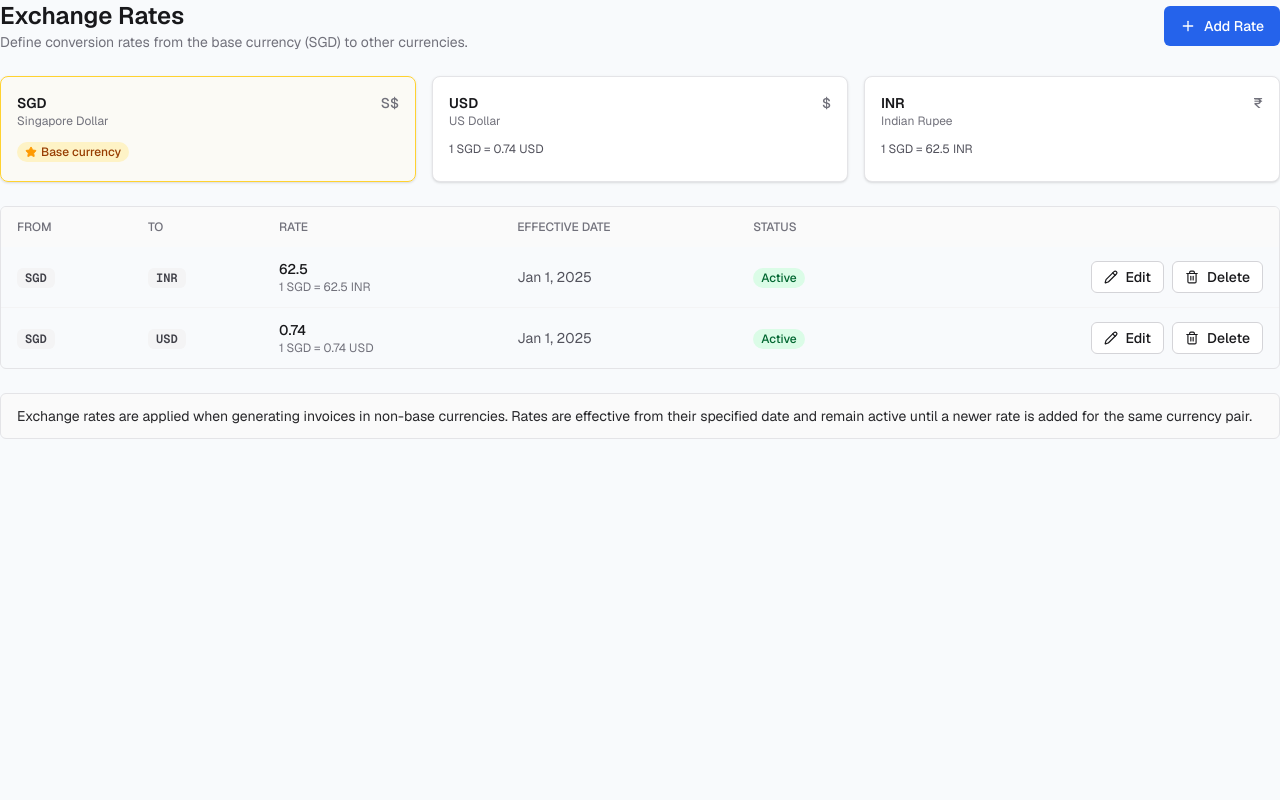
Test case: ExchangeRatesTable › closes the confirm dialog without deleting when cancelled
Check: the text "Base currency" is shown, box 17,142 -> 129,162
Click the 1st button "Delete" at (1217, 277), box 1172,261 -> 1263,293
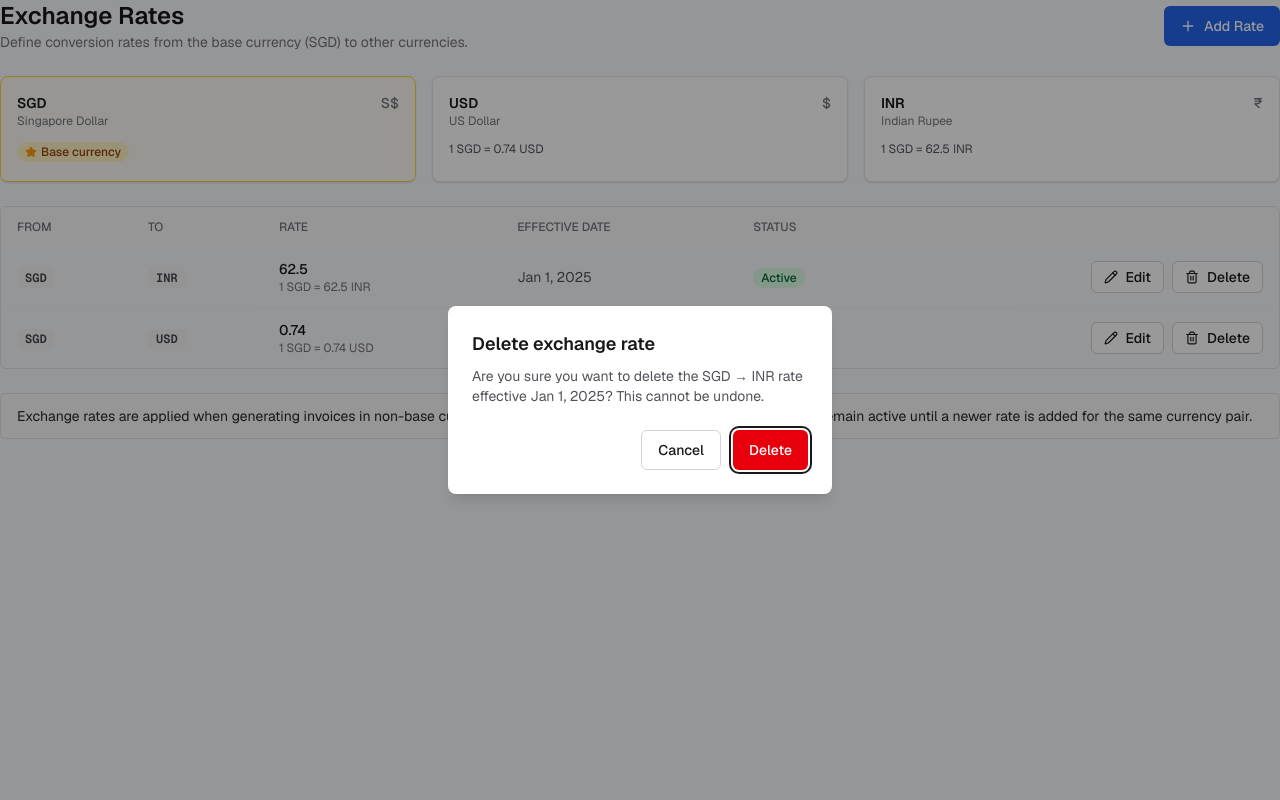
Click the button "Cancel" at (681, 450), box 641,430 -> 721,470
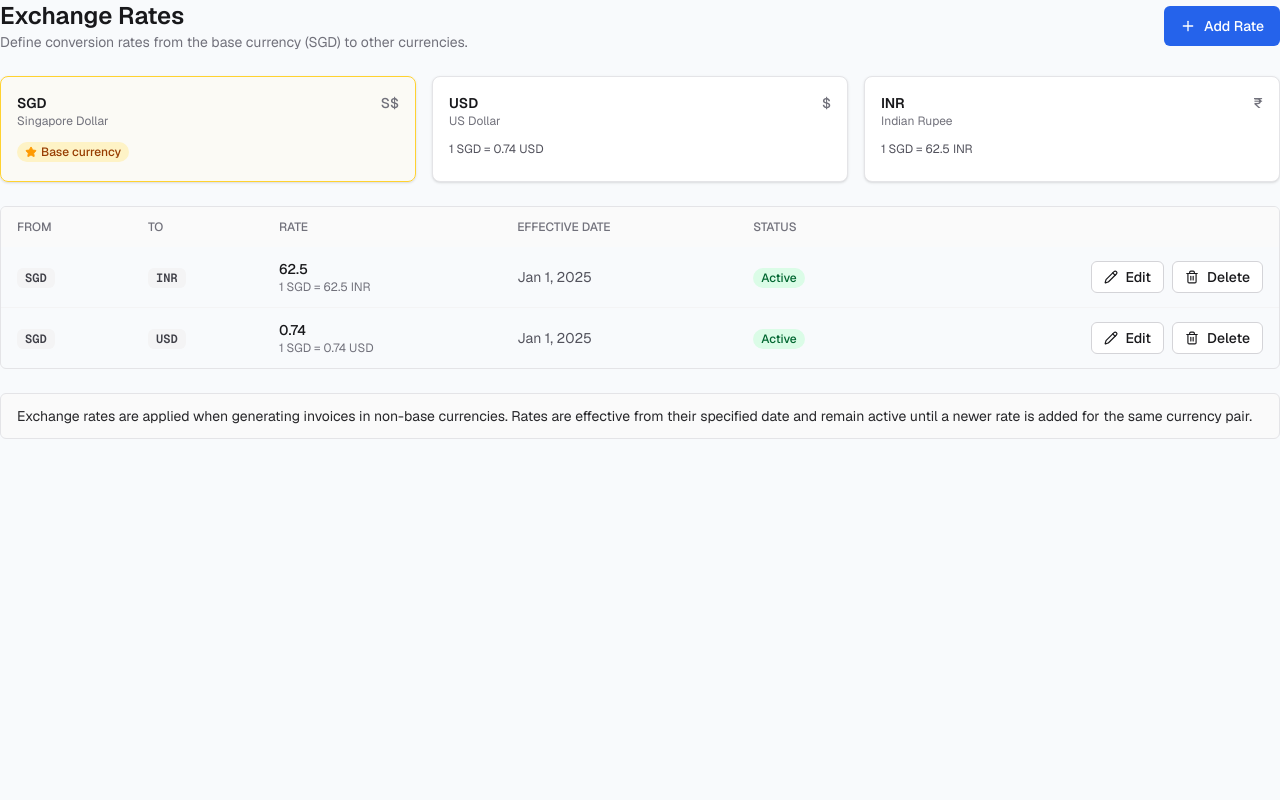
Check: the dialog is gone
